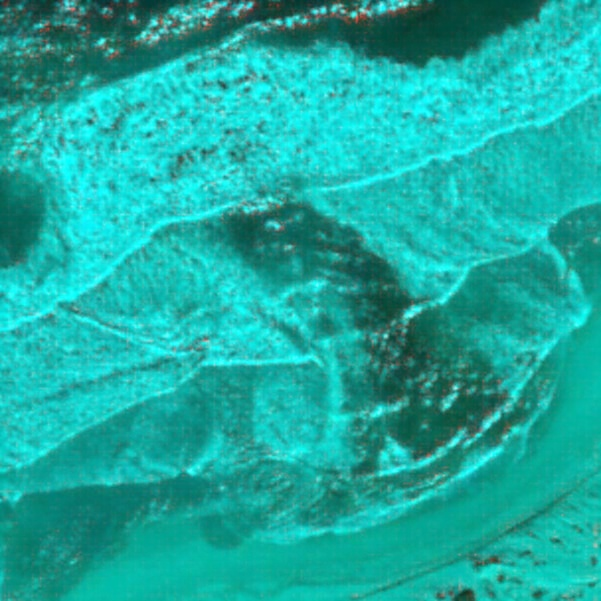rip_current: (160, 127, 512, 476)
